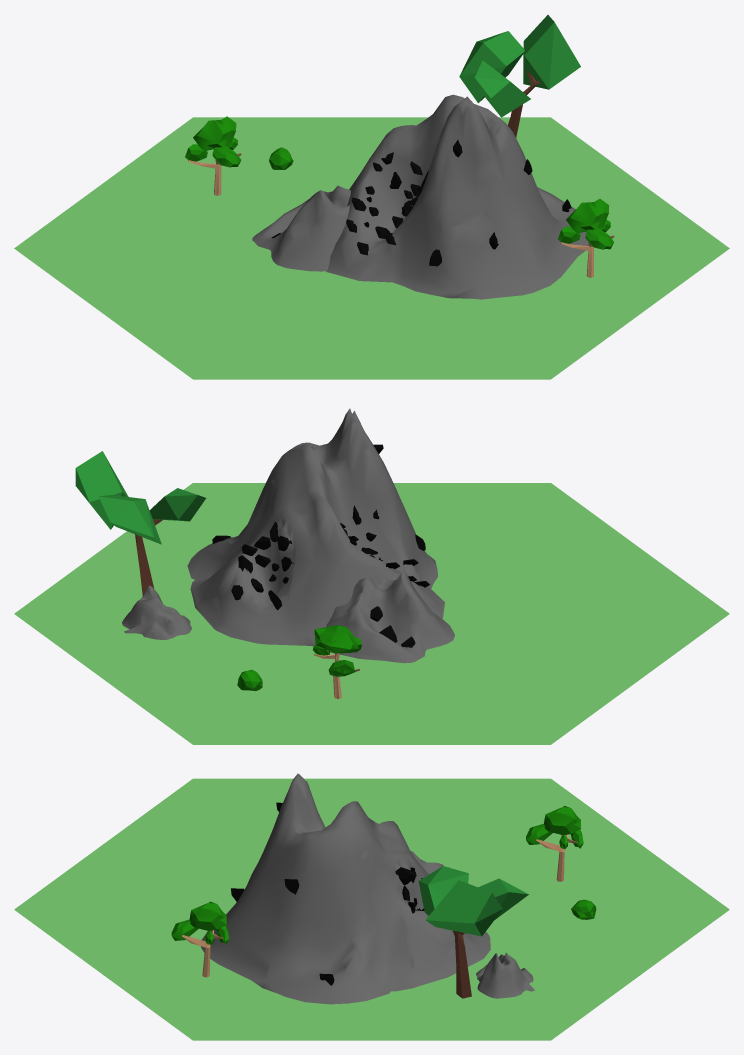
Rendered from Hexagone ressource obsidian.fbx.
The picture shows the model from 3 angles, top to bottom: view 1: azimuth 30°, elevation 25°; view 2: azimuth 150°, elevation 25°; view 3: azimuth 270°, elevation 25°; orthographic projection.
Parts seen in each view (by area): view 1: Cylinder; view 2: Cylinder; view 3: Cylinder.
Boxes of the visible parts, box(x1,y1,x2,y2) form: Cylinder: box(14, 15, 729, 379); Cylinder: box(14, 408, 729, 744); Cylinder: box(14, 773, 729, 1040).
Bounding box in the file's own units: 17.32 × 20 × 5.23.
